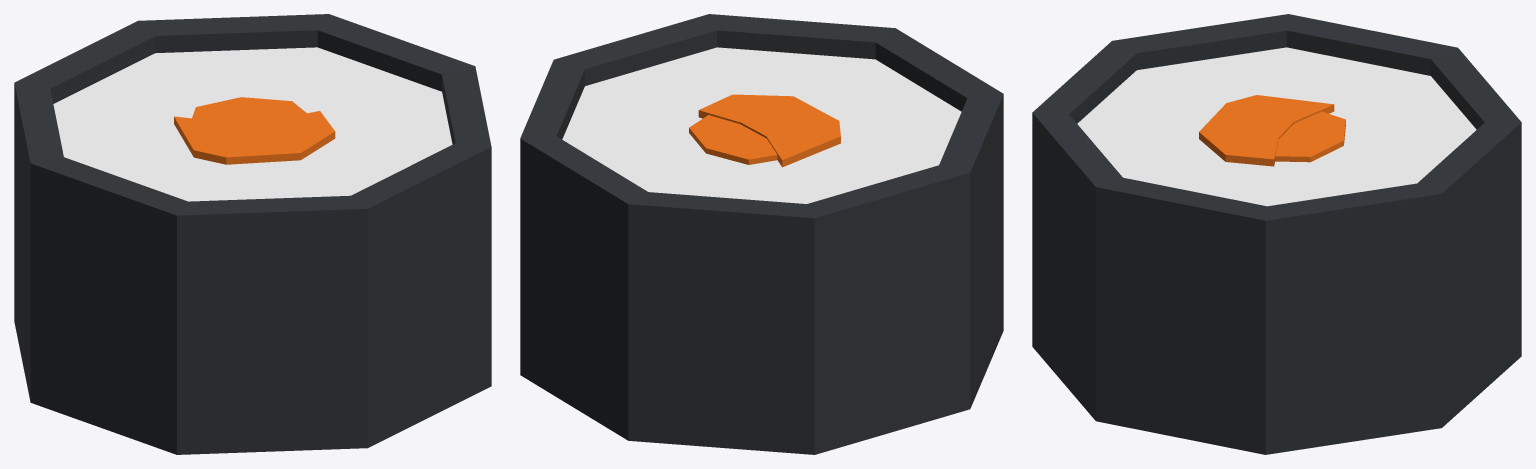
File: Sushi_Roll1.obj
The picture shows the model from 3 angles, left to right: view 1: azimuth 30°, elevation 25°; view 2: azimuth 150°, elevation 25°; view 3: azimuth 270°, elevation 25°; orthographic projection. The views are drawn at different scales.
Visible parts, largest first — view 1: Sushi_Roll1_DarkGrey, Sushi_Roll1_White, Sushi_Roll1_Orange; view 2: Sushi_Roll1_DarkGrey, Sushi_Roll1_White, Sushi_Roll1_Orange; view 3: Sushi_Roll1_DarkGrey, Sushi_Roll1_White, Sushi_Roll1_Orange.
Boxes of the visible parts, bbox=[...] form: Sushi_Roll1_DarkGrey: bbox=[14, 14, 491, 454]; Sushi_Roll1_White: bbox=[53, 47, 452, 201]; Sushi_Roll1_Orange: bbox=[174, 97, 335, 164]; Sushi_Roll1_DarkGrey: bbox=[520, 14, 1003, 454]; Sushi_Roll1_White: bbox=[562, 47, 961, 203]; Sushi_Roll1_Orange: bbox=[689, 94, 840, 167]; Sushi_Roll1_DarkGrey: bbox=[1032, 14, 1521, 454]; Sushi_Roll1_White: bbox=[1077, 47, 1476, 206]; Sushi_Roll1_Orange: bbox=[1199, 95, 1345, 166].
Size of the model in its own units: 0.2923 by 0.1543 by 0.2923.
